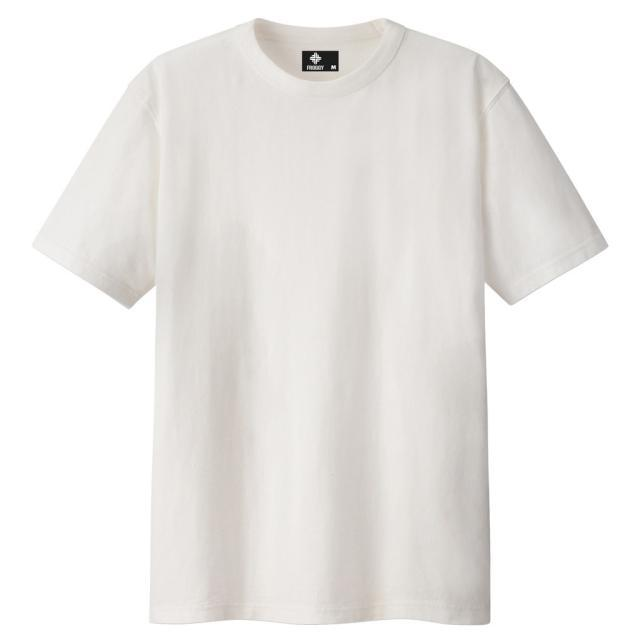Shirt: (30, 17, 605, 622)
